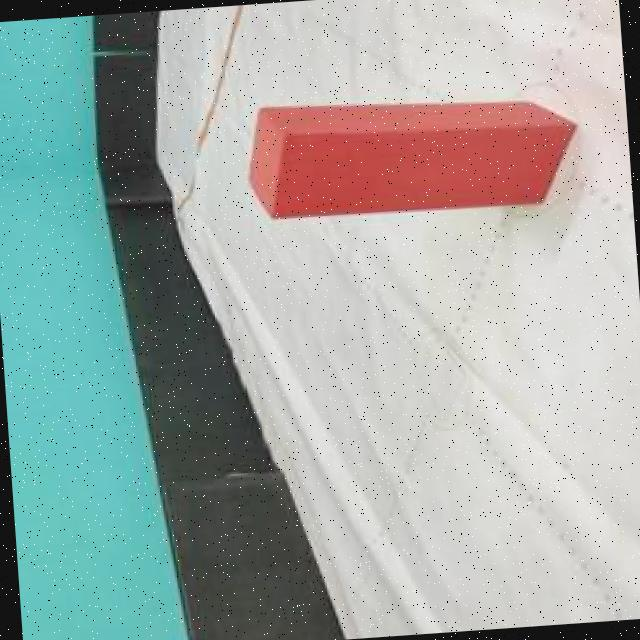redbox: (240, 88, 585, 220)
